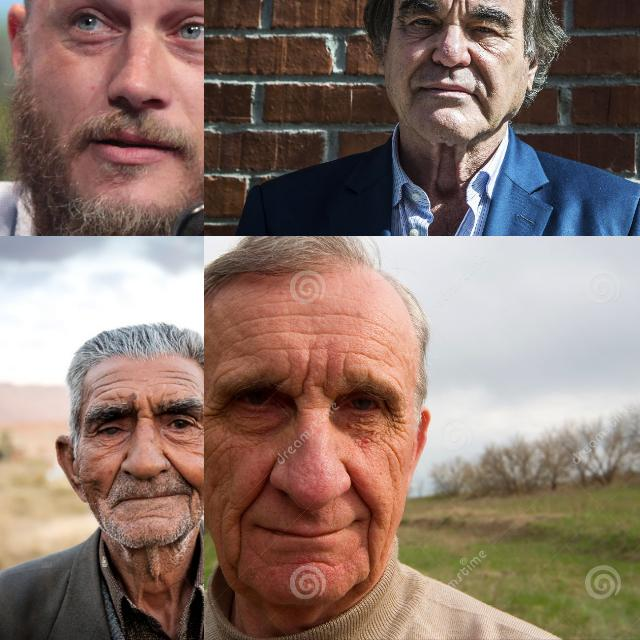chin: (292, 553, 336, 571), (134, 511, 170, 524)
crows_feet: (204, 399, 229, 427), (386, 408, 408, 438), (81, 423, 97, 443), (394, 18, 408, 40), (502, 27, 516, 48), (195, 418, 204, 435)
forehead: (235, 307, 285, 327), (342, 308, 382, 332), (289, 305, 329, 327), (90, 371, 126, 395), (350, 343, 386, 365), (252, 340, 292, 358), (164, 367, 196, 388), (296, 324, 338, 340), (243, 326, 275, 344)
frown_line: (298, 364, 312, 398), (319, 360, 333, 392), (336, 354, 350, 380), (280, 357, 294, 383), (445, 0, 468, 14), (144, 394, 156, 420)
gummy_smile: (240, 474, 272, 514), (348, 476, 378, 514), (162, 453, 190, 485), (108, 452, 124, 494), (468, 52, 488, 82), (412, 49, 431, 77)
masseter: (212, 434, 234, 464), (387, 442, 405, 474)
sad_smile: (355, 525, 379, 569), (228, 523, 252, 563), (406, 80, 416, 106), (476, 90, 486, 112)
